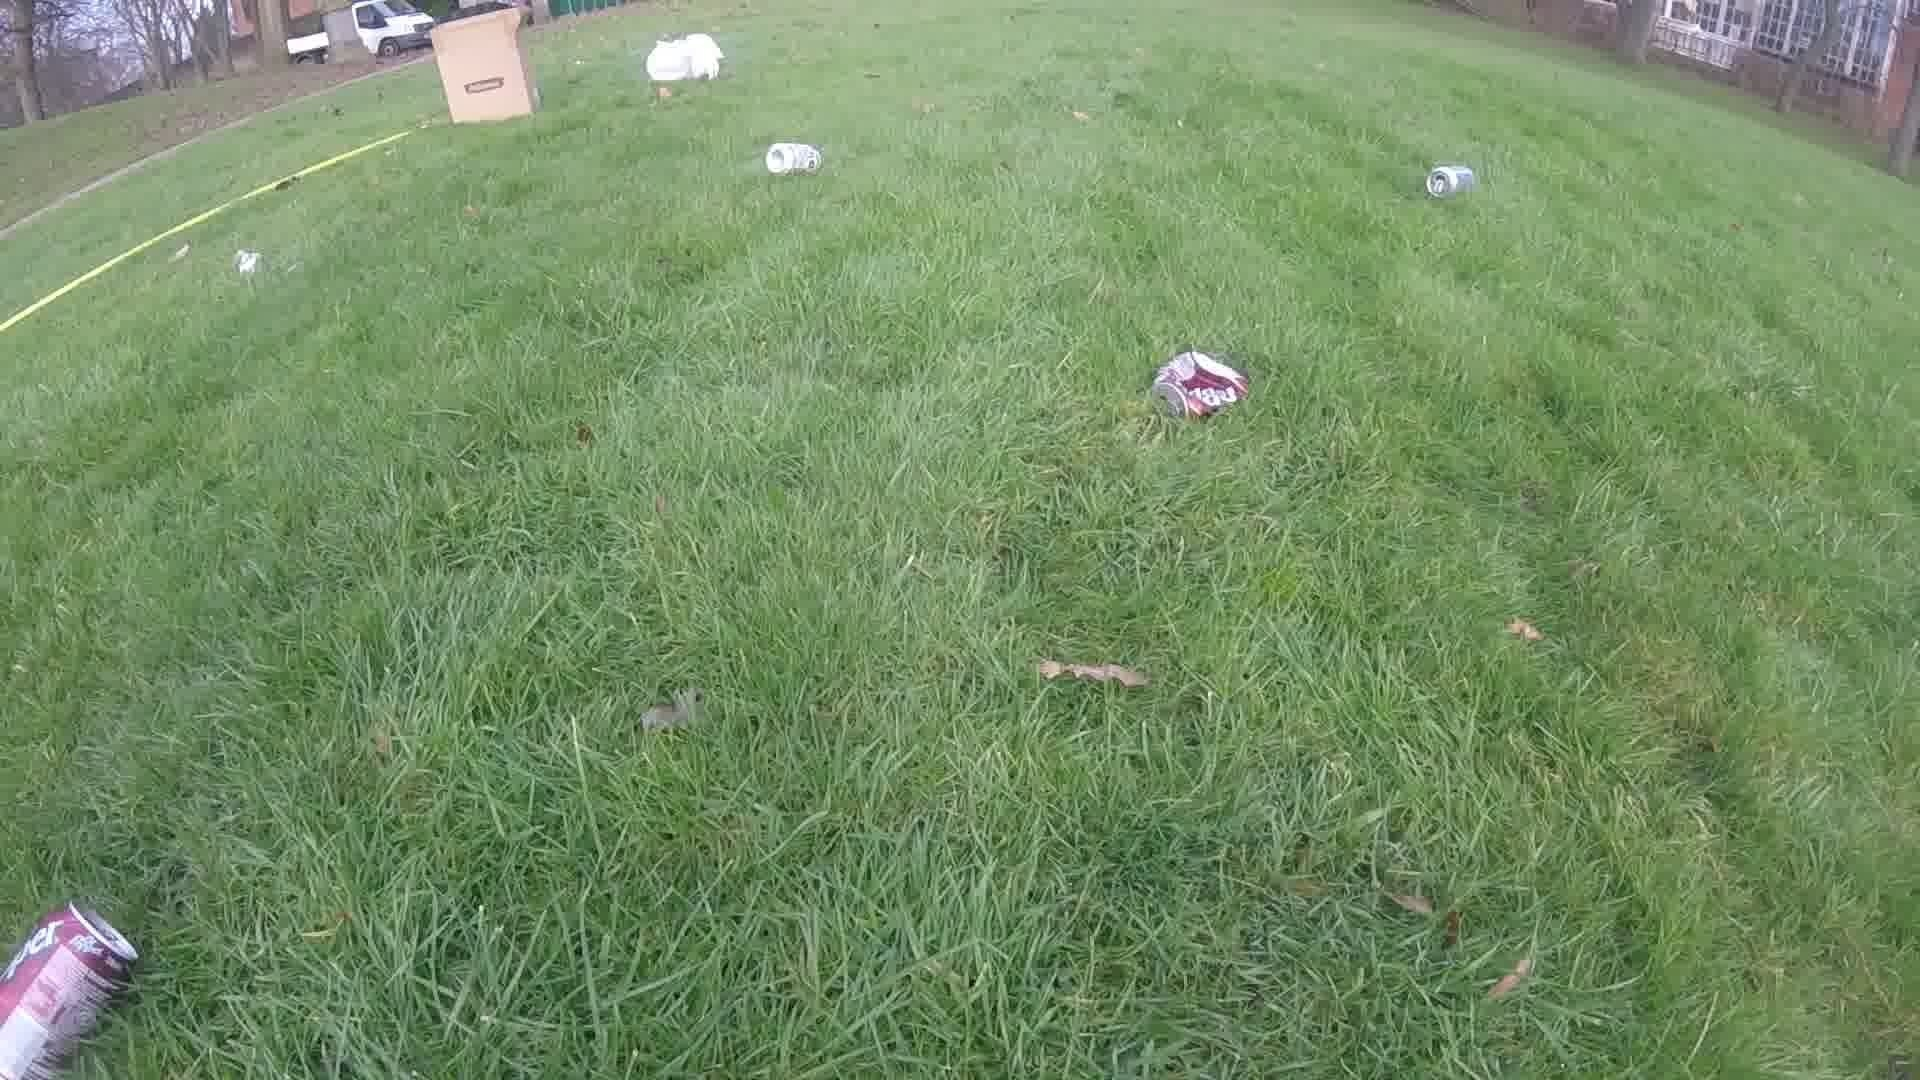litter: (0, 901, 135, 1080), (429, 7, 541, 123), (1149, 349, 1247, 423), (645, 32, 724, 83), (1422, 162, 1477, 200), (762, 142, 823, 173), (231, 251, 257, 273)
